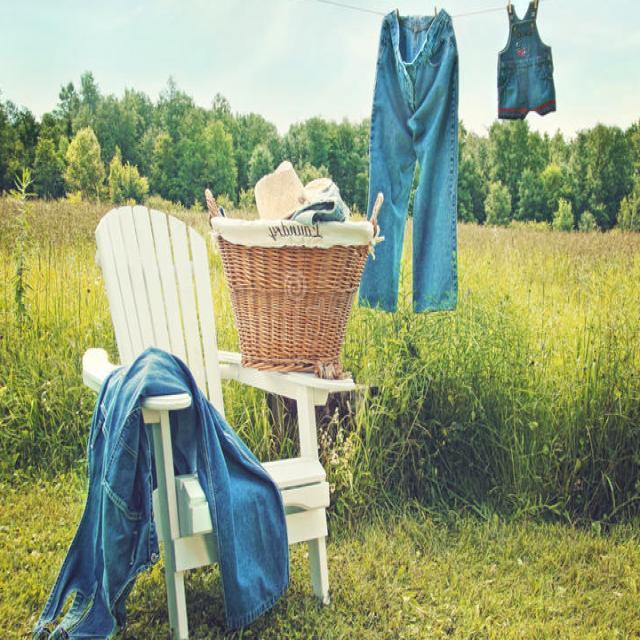clothes: (360, 36, 486, 335)
